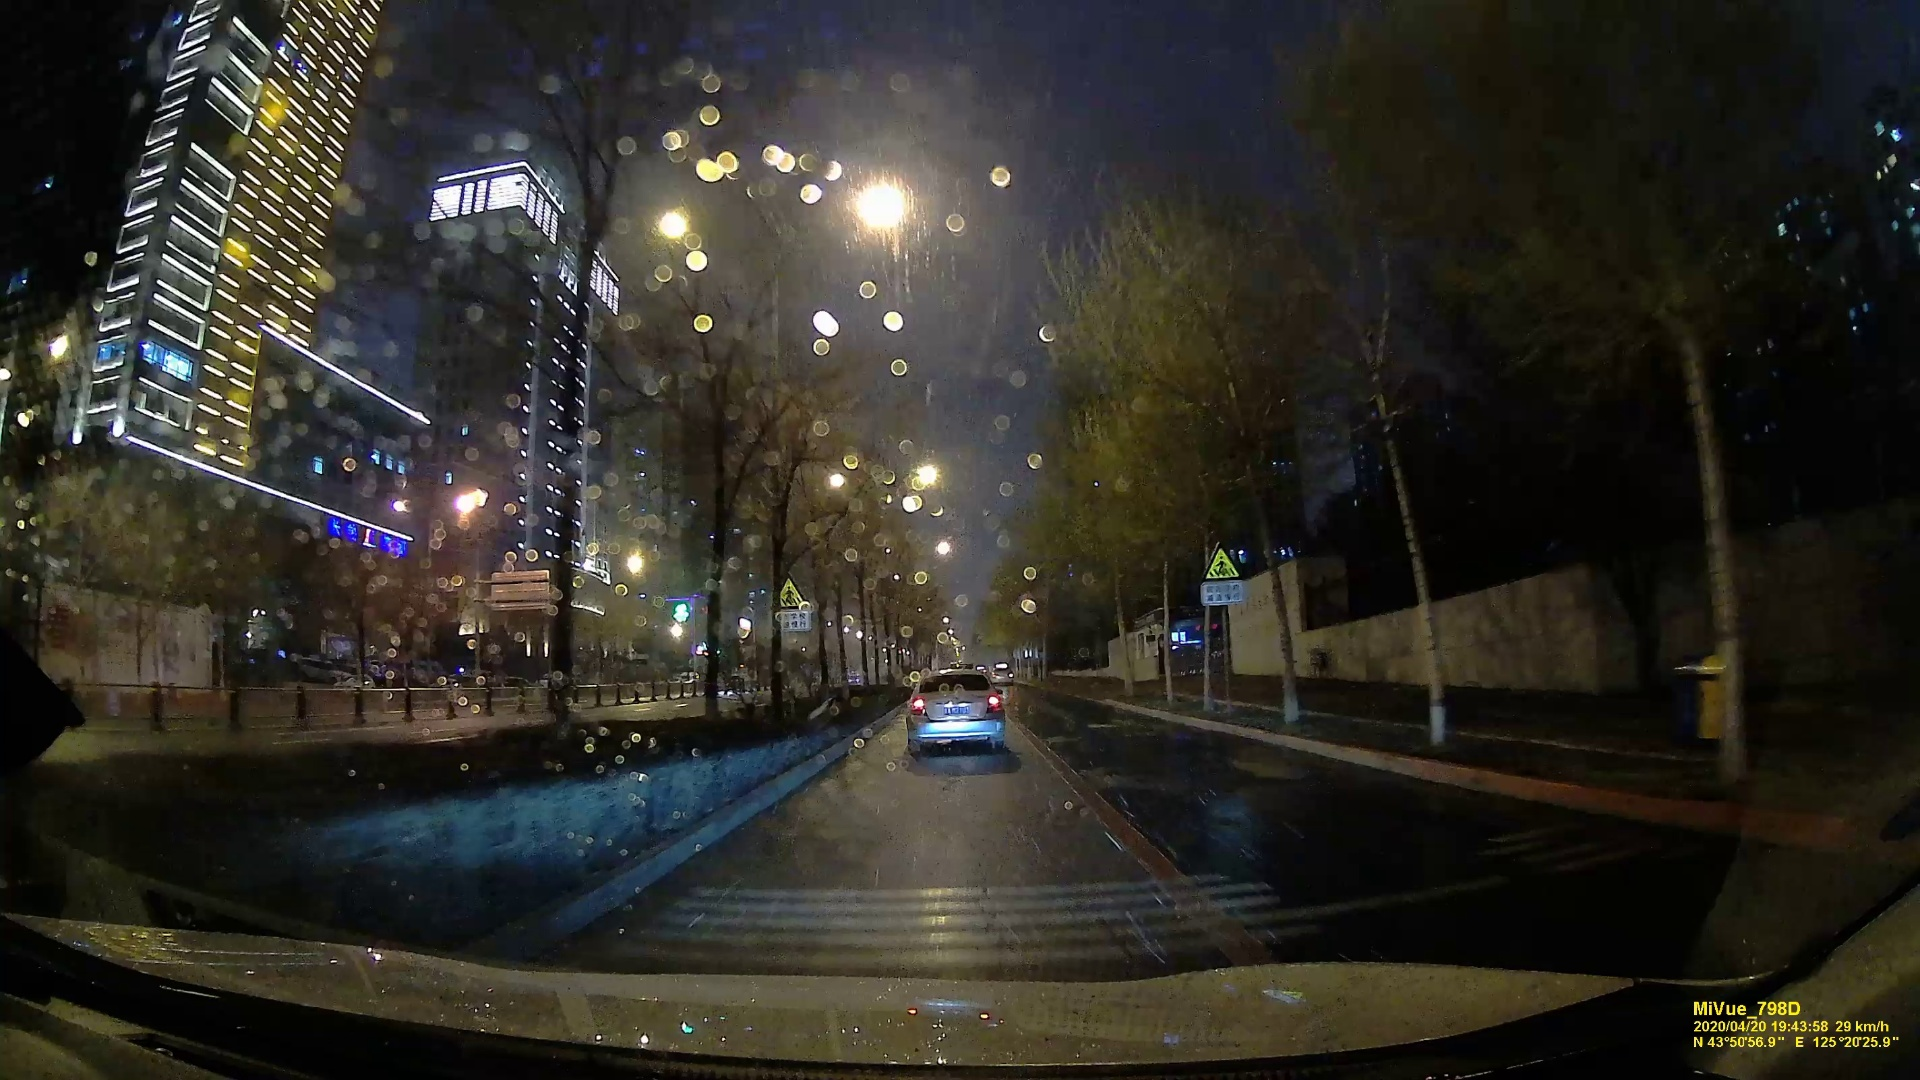traffic_sign: (1197, 541, 1245, 604), (771, 578, 811, 633)
vehicle: (905, 671, 1004, 749)
